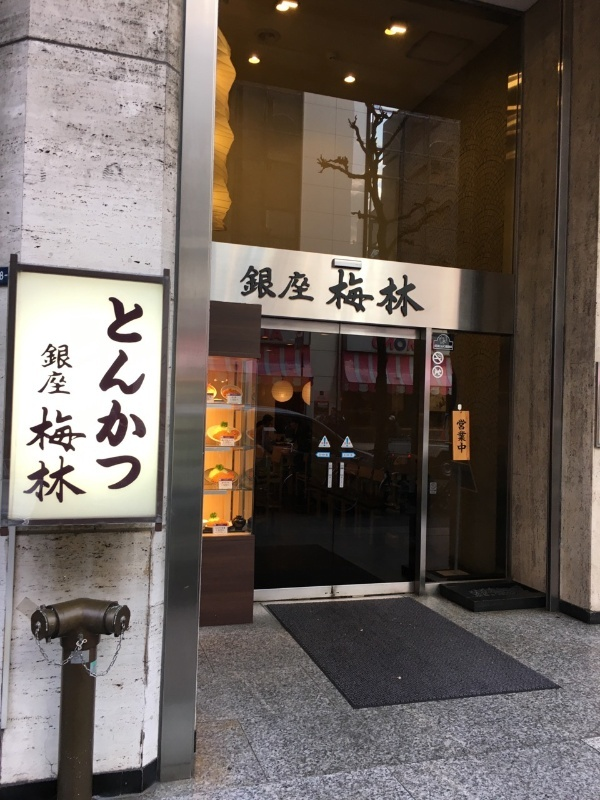text: (113, 294, 128, 495), (129, 294, 144, 495), (33, 407, 48, 507), (49, 407, 64, 507), (65, 407, 80, 507), (106, 294, 112, 495), (49, 344, 64, 396), (337, 268, 352, 319), (353, 268, 368, 319), (369, 268, 384, 319), (385, 268, 400, 319), (401, 268, 416, 319), (81, 407, 87, 507), (65, 344, 76, 396), (241, 265, 256, 301), (257, 265, 272, 301), (273, 265, 288, 301), (289, 265, 304, 301), (417, 268, 426, 319), (145, 294, 147, 495), (305, 265, 315, 301), (329, 268, 336, 319), (42, 344, 48, 396), (29, 407, 32, 507), (385, 337, 400, 354), (401, 337, 416, 354), (457, 420, 464, 455), (372, 337, 384, 354), (465, 420, 467, 455)
